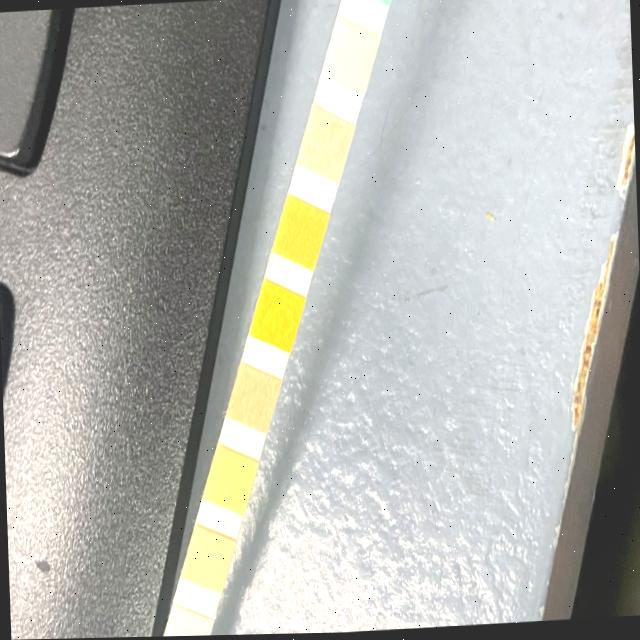Bilirubin: (331, 35, 368, 85)
Blood: (260, 291, 294, 341)
Ketone: (307, 119, 343, 170)
Nitrite: (168, 615, 202, 637)
Protein: (212, 457, 246, 505)
SpGravity: (284, 204, 314, 260)
Urobilinogen: (191, 534, 225, 583)
pH: (236, 378, 270, 422)
